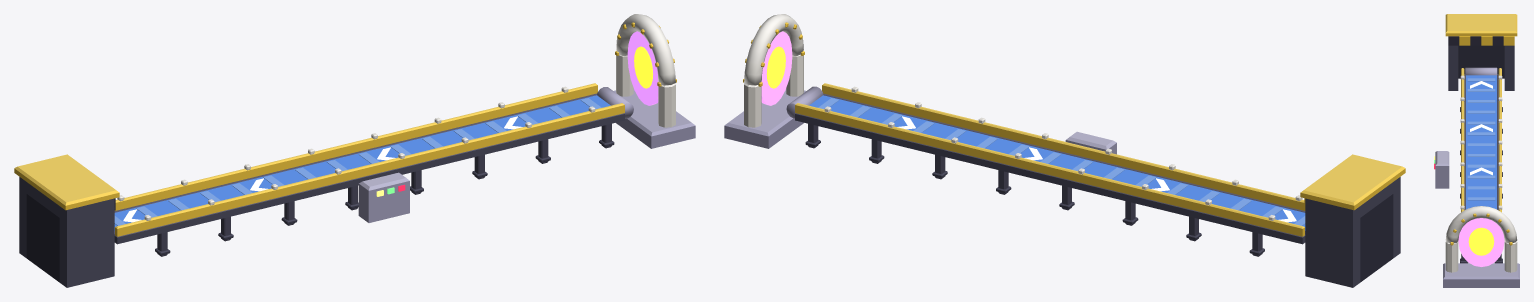
The model's file is Conveyor_2.glb.
3 renders of one model, left to right at view 1: azimuth 30°, elevation 25°; view 2: azimuth 150°, elevation 25°; view 3: azimuth 270°, elevation 25°, orthographic. The views are drawn at different scales.
Visible parts, largest first — view 1: Conveyor_2, Conveyor_2_Glow_portal, Conveyor_2_Glow_acc2, Conveyor_2_Glow_belt; view 2: Conveyor_2, Conveyor_2_Glow_portal, Conveyor_2_Glow_acc2, Conveyor_2_Glow_belt; view 3: Conveyor_2, Conveyor_2_Glow_portal, Conveyor_2_Glow_acc2, Conveyor_2_Glow_belt.
Boxes of the visible parts, bbox=[...] form: Conveyor_2: bbox=[14, 14, 695, 287]; Conveyor_2_Glow_portal: bbox=[627, 31, 658, 105]; Conveyor_2_Glow_acc2: bbox=[634, 46, 653, 88]; Conveyor_2_Glow_belt: bbox=[123, 116, 522, 222]; Conveyor_2: bbox=[724, 14, 1405, 287]; Conveyor_2_Glow_portal: bbox=[761, 31, 792, 105]; Conveyor_2_Glow_acc2: bbox=[766, 46, 785, 88]; Conveyor_2_Glow_belt: bbox=[897, 116, 1296, 222]; Conveyor_2: bbox=[1435, 14, 1519, 287]; Conveyor_2_Glow_portal: bbox=[1458, 218, 1504, 266]; Conveyor_2_Glow_acc2: bbox=[1468, 227, 1494, 255]; Conveyor_2_Glow_belt: bbox=[1470, 81, 1492, 175].
Size of the model in its own units: 79.2 by 13 by 13.4.
7 materials, 1 textured.
